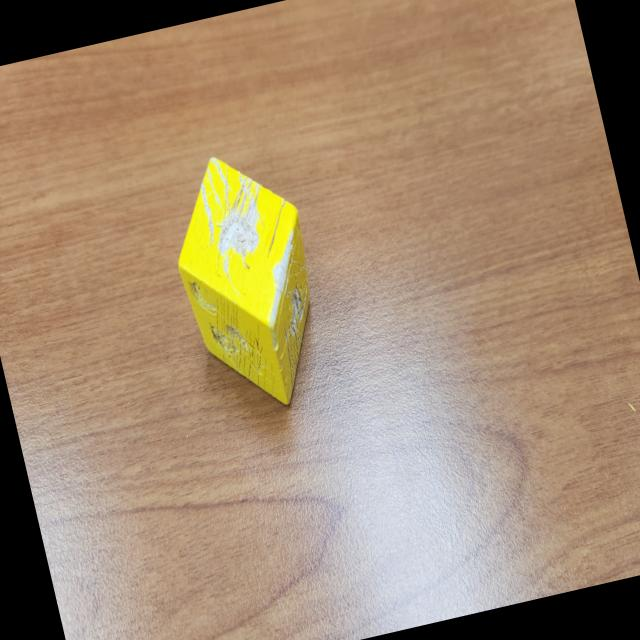broken: (156, 140, 340, 422)
